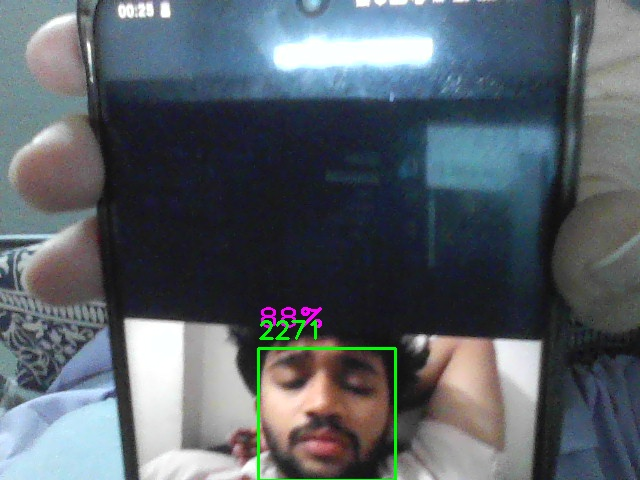fake: (258, 348, 396, 480)
